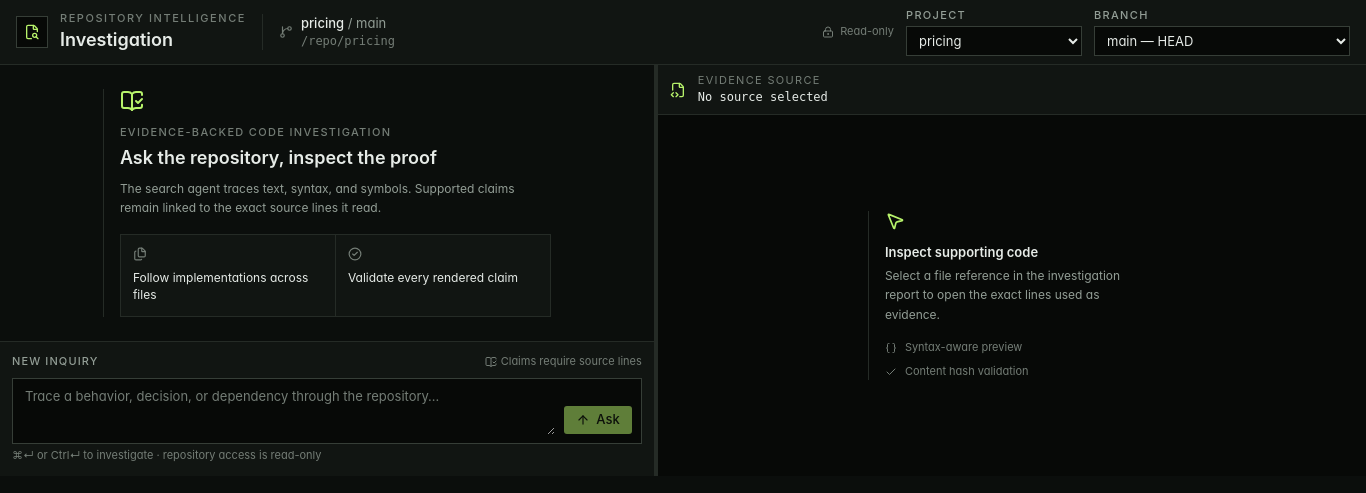
Test case: code search route › marks the citation stale when the exact cited lines changed
Replace the text in the text box named "Repository question" with "What is the recurring discount?": (288, 411) [21,387,555,435]
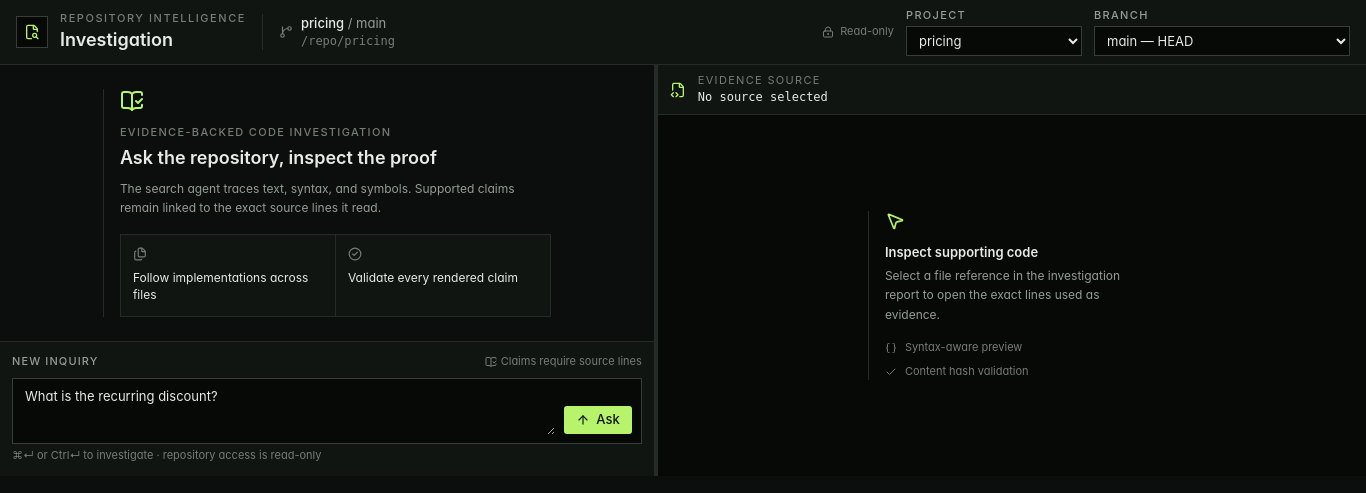
Click the button "Ask": (598, 420) [563,405,633,435]
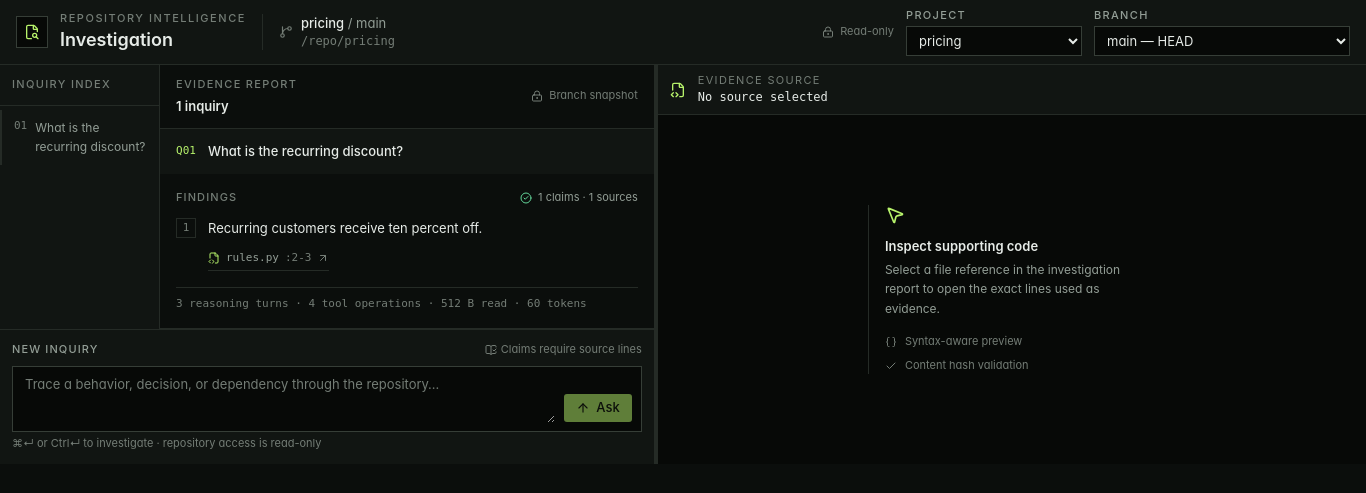
Check: the text "Recurring customers receive ten percent off." is shown, box [208,220,482,236]
Click the button with aria-label "Open rules.py lines 2-3": (269, 259) [208,247,330,271]
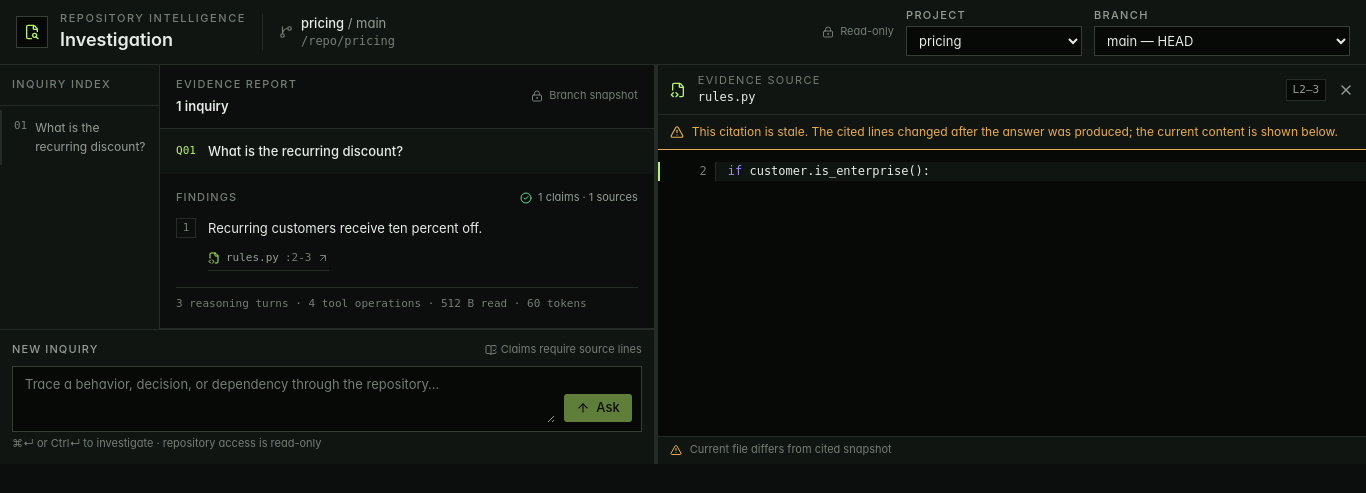
Check: the message shows "This citation is stale", box [692,124,1338,139]
